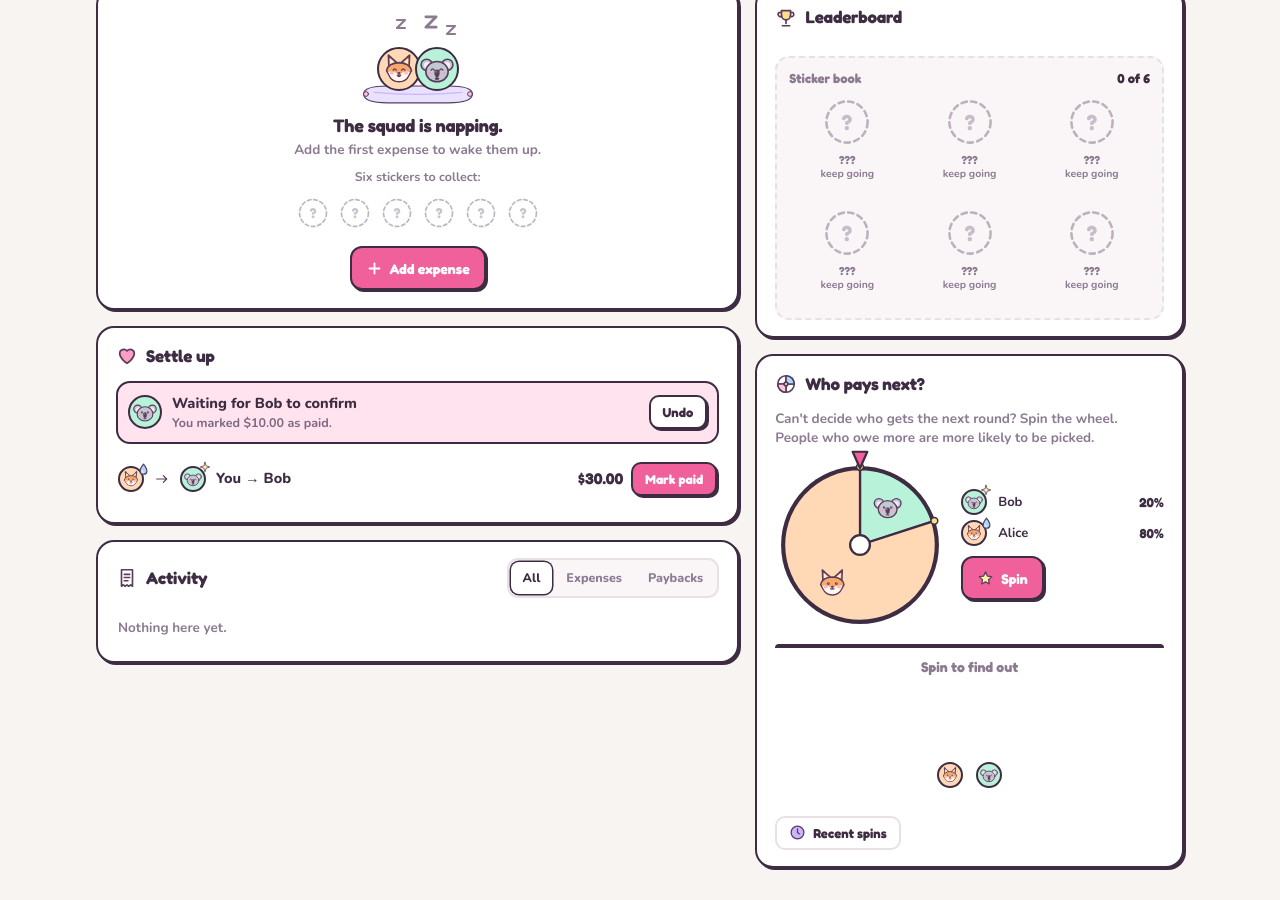
Test: Group home › Settle up › opens a settle form pre-filled with the suggestion, minus what is already waiting for confirmation
Later steps or results of the test are not shown.
(page scrolled)
Step 1. Click the button "Mark paid" → (674, 479), box [631, 462, 717, 496]
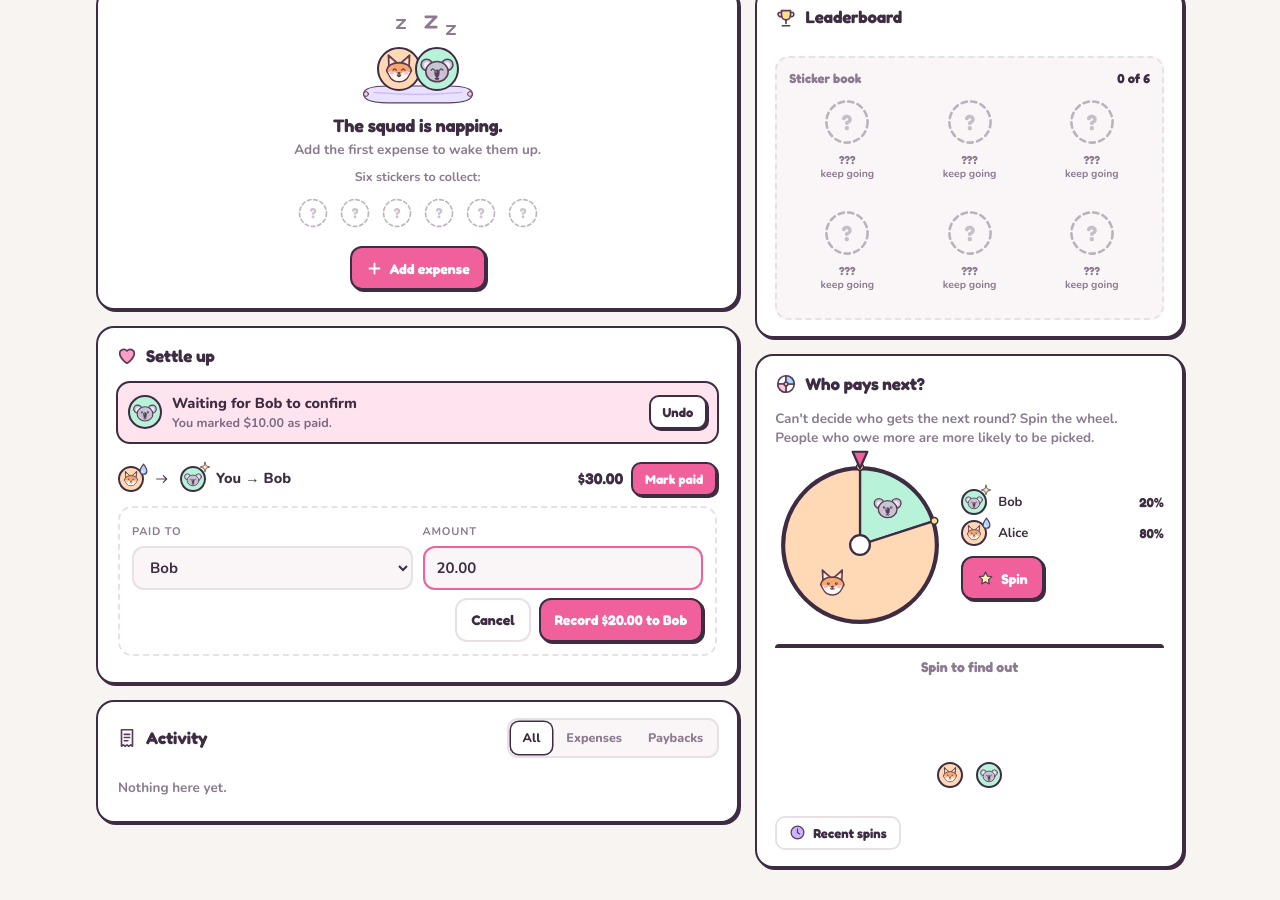
Expected: the dropdown labelled "Paid to" shows "Bob", [132, 546, 413, 590]
Expected: the field labelled "Amount" holds "20.00", [423, 546, 703, 590]
